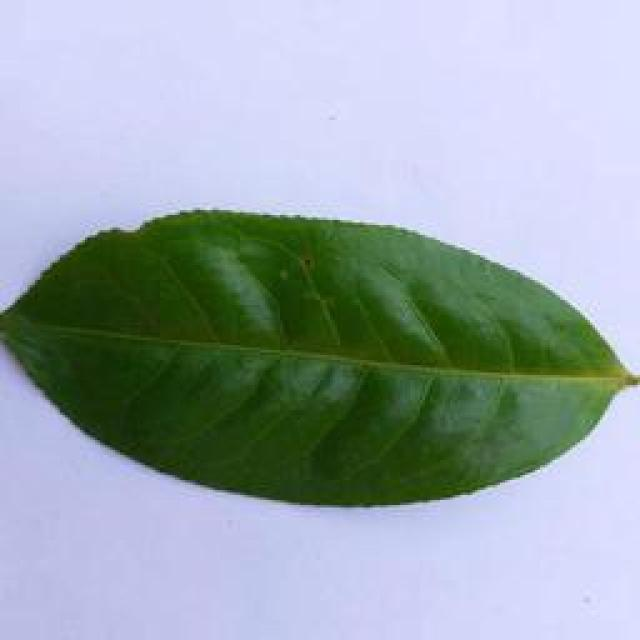Healthy: (0, 207, 620, 520)
